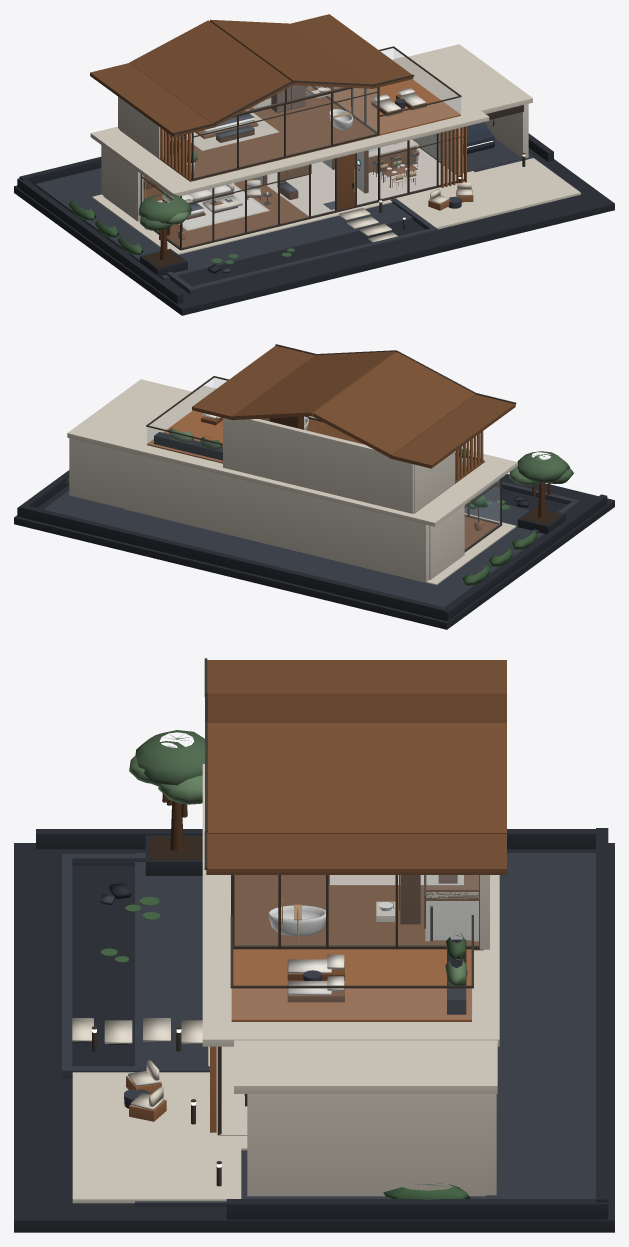
Rendered from cangze-residence.glb.
3 renders of one model, top to bottom at view 1: azimuth 30°, elevation 25°; view 2: azimuth 150°, elevation 25°; view 3: azimuth 270°, elevation 25°, orthographic. The views are drawn at different scales.
Parts seen in each view (by area): view 1: ShellStone, ShellWood, ArchitecturalGlass, ShellMetal, InteriorSoft, InteriorWood, Foliage, InteriorSurface; view 2: ShellStone, ShellWood, ArchitecturalGlass, Foliage, ShellMetal, InteriorSurface, InteriorWood; view 3: ShellStone, ShellWood, ArchitecturalGlass, Foliage, ShellMetal, InteriorSoft, InteriorWood, InteriorSurface.
Boxes of the visible parts, x1=… form: ShellStone: x1=14, y1=44, x2=614, y2=315; ShellWood: x1=90, y1=14, x2=466, y2=260; ArchitecturalGlass: x1=142, y1=48, x2=463, y2=247; ShellMetal: x1=140, y1=46, x2=525, y2=250; InteriorSoft: x1=157, y1=88, x2=472, y2=230; InteriorWood: x1=143, y1=85, x2=473, y2=231; Foliage: x1=69, y1=151, x2=400, y2=264; InteriorSurface: x1=143, y1=86, x2=494, y2=239; ShellStone: x1=14, y1=379, x2=614, y2=629; ShellWood: x1=147, y1=345, x2=550, y2=548; ArchitecturalGlass: x1=147, y1=378, x2=499, y2=549; Foliage: x1=66, y1=427, x2=573, y2=585; ShellMetal: x1=146, y1=344, x2=516, y2=552; InteriorSurface: x1=154, y1=416, x2=482, y2=530; InteriorWood: x1=201, y1=416, x2=479, y2=522; ShellStone: x1=14, y1=764, x2=614, y2=1232; ShellWood: x1=162, y1=660, x2=506, y2=1132; ArchitecturalGlass: x1=232, y1=875, x2=478, y2=1018; Foliage: x1=101, y1=730, x2=470, y2=1199; ShellMetal: x1=92, y1=658, x2=479, y2=1186; InteriorSoft: x1=128, y1=875, x2=463, y2=1110; InteriorWood: x1=126, y1=875, x2=471, y2=1121; InteriorSurface: x1=124, y1=901, x2=466, y2=1108.
Bounding box in the file's own units: 24.4 × 8.37 × 16.4.
